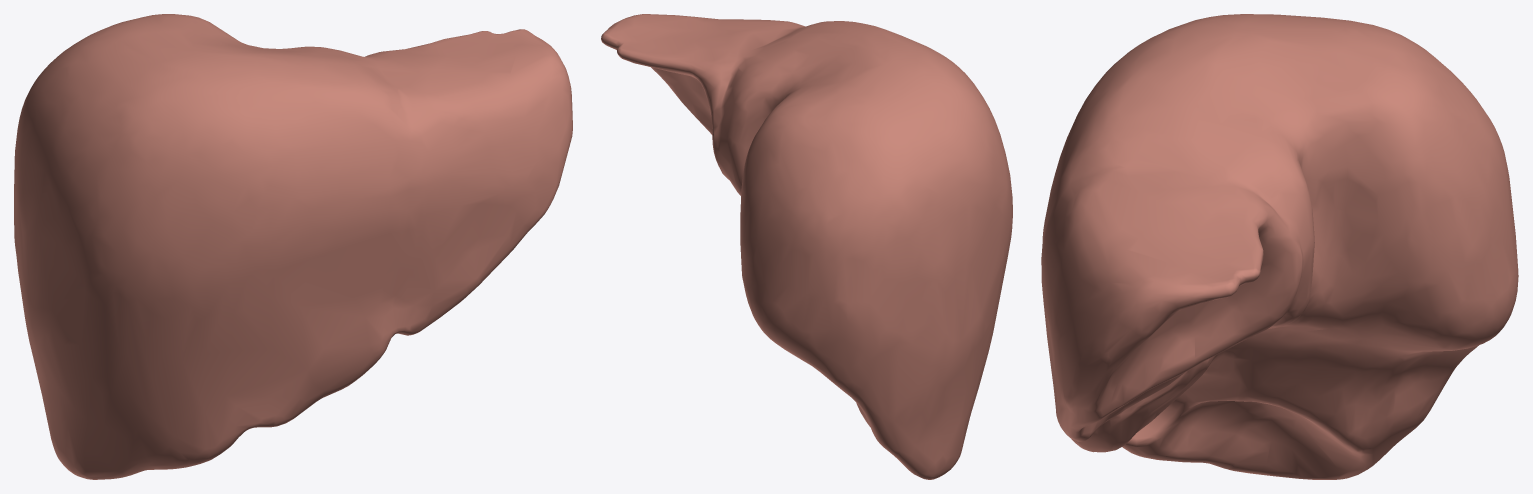
File: liver.glb
3 renders of one model, left to right at view 1: azimuth 30°, elevation 25°; view 2: azimuth 150°, elevation 25°; view 3: azimuth 270°, elevation 25°, orthographic. The views are drawn at different scales.
Parts seen in each view (by area): view 1: liver; view 2: liver; view 3: liver.
Boxes of the visible parts, x1,y1,x2,y2 form: liver: (14,14,572,479); liver: (601,14,1012,479); liver: (1041,14,1518,479).
Size of the model in its own units: 0.199 by 0.174 by 0.15.
